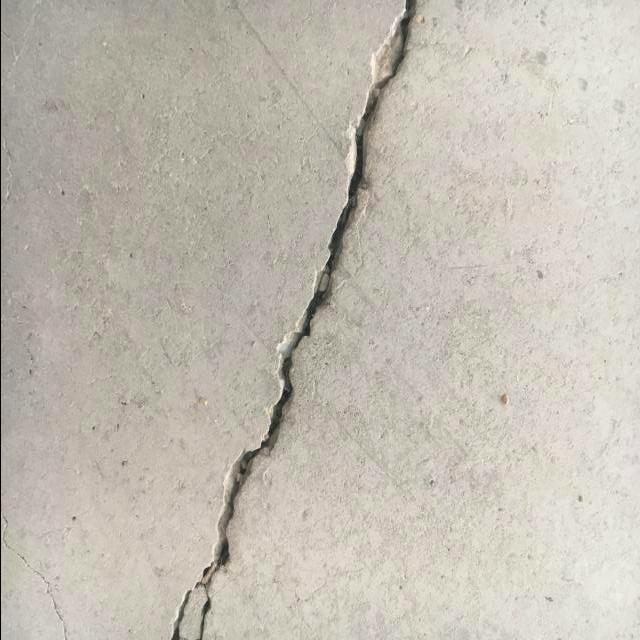SurfaceCrack: (159, 0, 462, 639)
